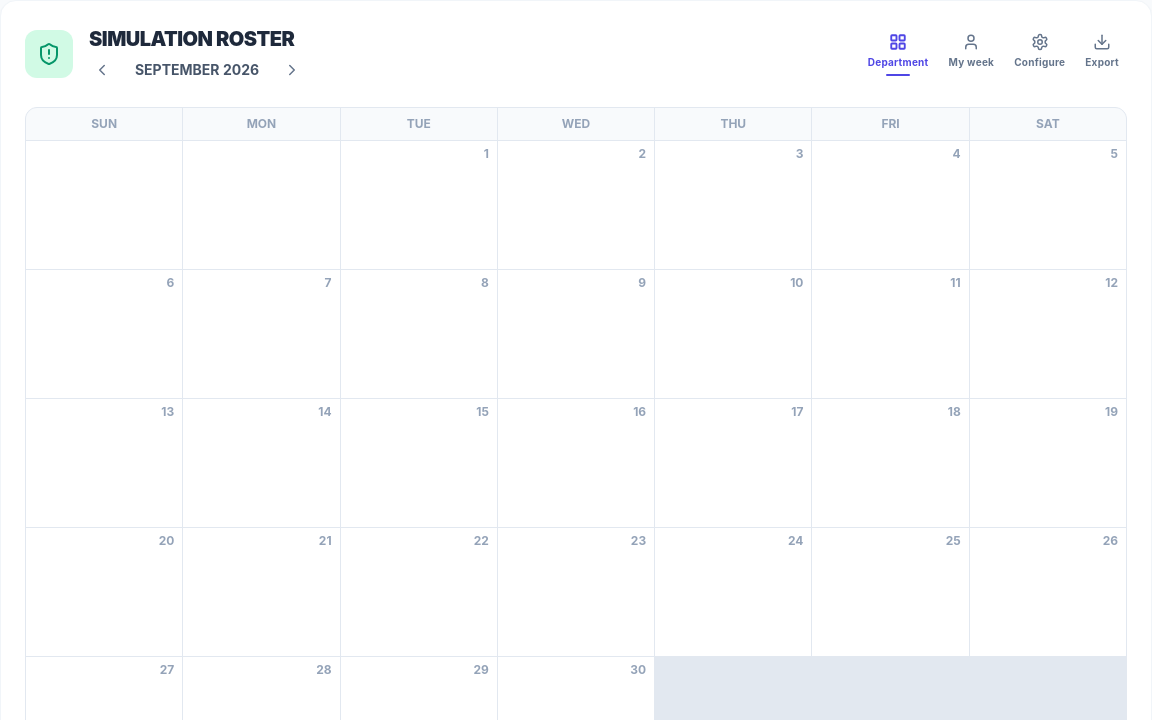
Test: demo mode: the wizard is the tables, and only the tables › opens with an empty pool and a disabled Generate, saying what is missing
Click the button "Configure" at (1040, 54), box [1006,26,1073,82]
(page scrolled)
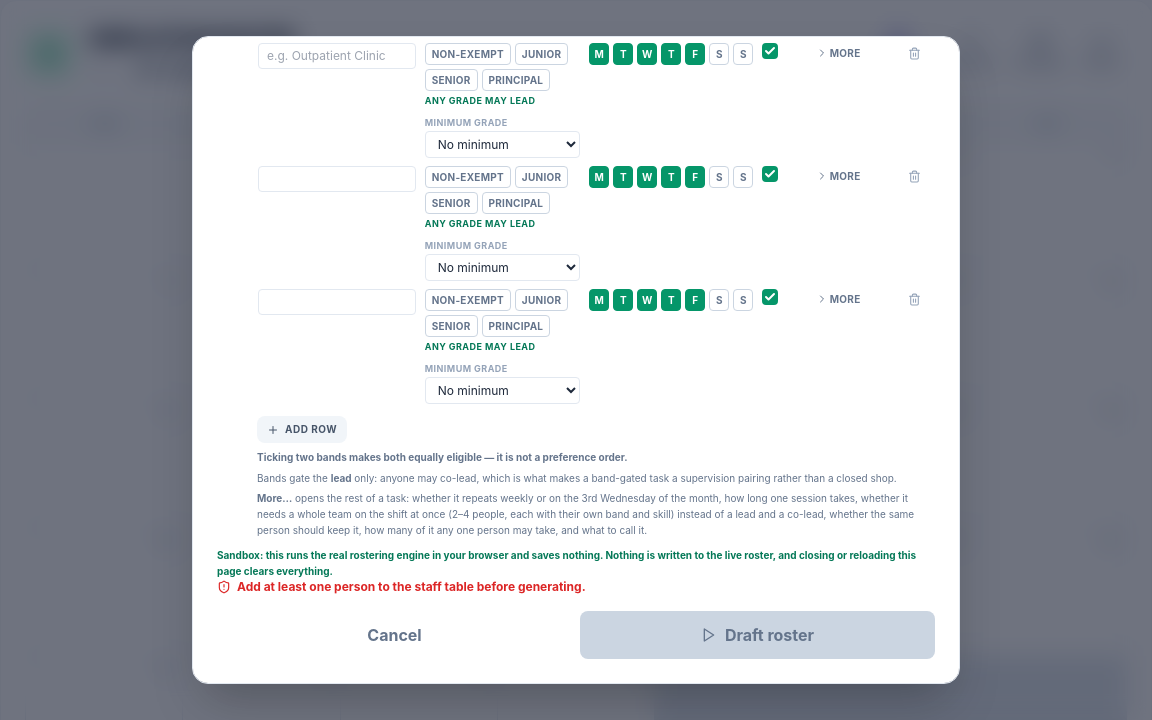
Expected: the button "Draft roster" is disabled, [580,611,935,659]
Expected: the text "Add at least one person to the staff table" is shown, [237,579,586,594]
